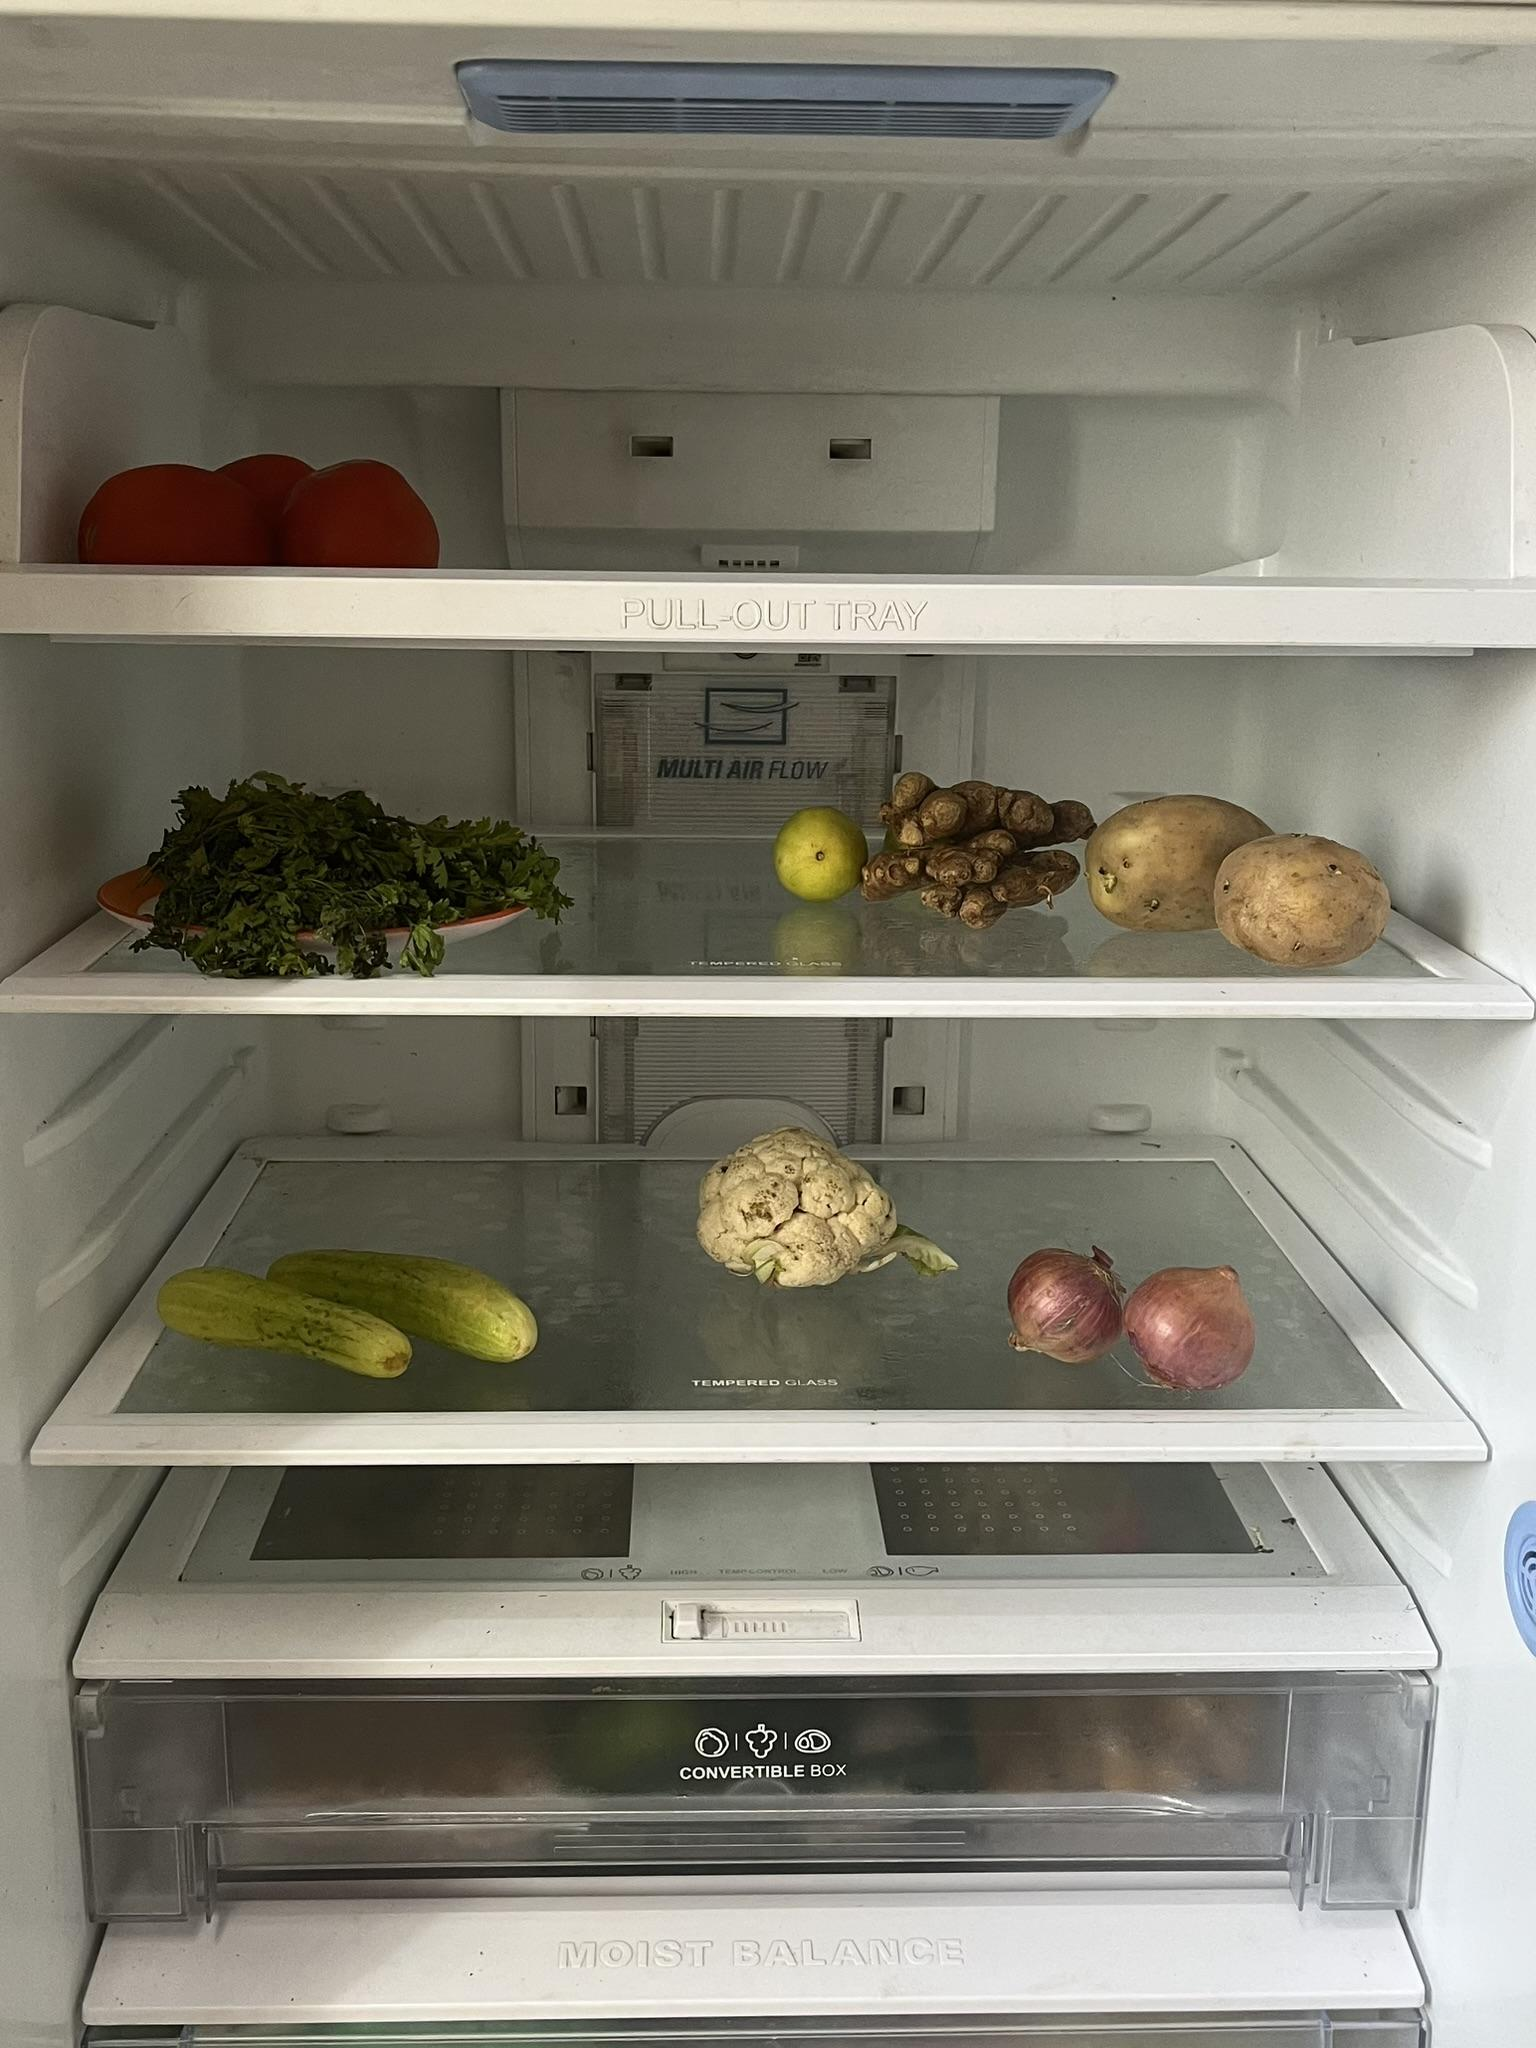cauliflower: (691, 1124, 926, 1290)
cucumber: (153, 1240, 547, 1374)
ginger: (879, 756, 1094, 921)
lemon: (770, 793, 866, 906)
onion: (1126, 1247, 1254, 1390), (1004, 1240, 1129, 1363)
potato: (147, 777, 594, 971), (1083, 784, 1394, 959)
tomato: (94, 443, 447, 563)
